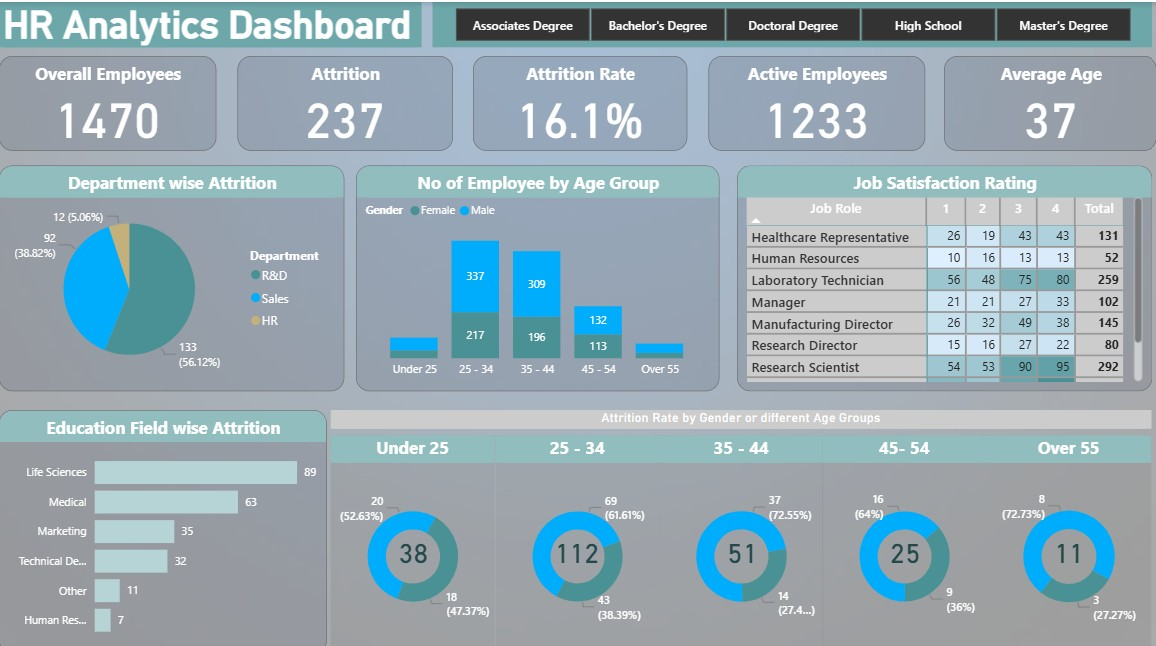

What the dashboard file says about the page in this screenshot:
{"tool":"powerbi","page":{"name":"Page 1","canvas":[1280,720],"ordinal":0},"visuals":[{"type":"card","title":"Overall Employees","fields":{"Values":["Sum(HR Data.Employee Count)"]},"box":[0,60.4,239.7,104.8],"z":0},{"type":"card","title":"Attrition","fields":{"Values":["Sum(HR Data.Attrition_Count)"]},"box":[262.6,60.4,237.7,104.8],"z":1000},{"type":"card","title":"Attrition Rate","fields":{"Values":["HR Data.Attrition_Rate"]},"box":[523.8,60.4,236.4,104.8],"z":2000},{"type":"card","title":"Active Employees","fields":{"Values":["HR Data.Active_Employees"]},"box":[783.7,60.4,239.1,104.8],"z":3000},{"type":"card","title":"Average Age","fields":{"Values":["Avg(HR Data.Age)"]},"box":[1044.3,60.4,235.7,104.8],"z":4000},{"type":"pieChart","title":"Department wise Attrition","fields":{"Category":["HR Data.Department"],"Y":["Sum(HR Data.Attrition_Count)"]},"box":[0,181.3,381.4,249.2],"z":5000},{"type":"columnChart","title":"No of Employee by Age Group","fields":{"Category":["HR Data.CF_age band"],"Y":["Sum(HR Data.Employee Count)"],"Series":["HR Data.Gender"]},"box":[394.2,181.3,401.6,249.2],"z":6000},{"type":"pivotTable","title":"Job Satisfaction Rating","fields":{"Rows":["HR Data.Job Role"],"Columns":["HR Data.Job Satisfaction"],"Values":["Sum(HR Data.Employee Count)"]},"box":[814.6,181.3,458.7,249.2],"z":7000},{"type":"barChart","title":"Education Field wise Attrition","fields":{"Y":["Sum(HR Data.Attrition_Count)"],"Category":["HR Data.Education Field"]},"box":[0,449.9,362,270],"z":8000},{"type":"donutChart","title":"Under 25","fields":{"Category":["HR Data.Gender"],"Y":["Sum(HR Data.Attrition_Count)"],"Series":["HR Data.CF_age band"]},"box":[366.7,478.2,181.3,241.8],"z":9000},{"type":"textbox","title":"Attrition Rate by Gender or different Age Groups","box":[366.7,449.9,906.6,20.8],"z":10000},{"type":"donutChart","title":"25 - 34","fields":{"Category":["HR Data.Gender"],"Y":["Sum(HR Data.Attrition_Count)"],"Series":["HR Data.CF_age band"]},"box":[548,478.2,180.7,241.8],"z":11000},{"type":"donutChart","title":"35 - 44","fields":{"Category":["HR Data.Gender"],"Y":["Sum(HR Data.Attrition_Count)"],"Series":["HR Data.CF_age band"]},"box":[728.6,478.2,181.3,241.8],"z":12000},{"type":"donutChart","title":"45- 54","fields":{"Category":["HR Data.Gender"],"Y":["Sum(HR Data.Attrition_Count)"],"Series":["HR Data.CF_age band"]},"box":[910,478.2,180.7,241.8],"z":13000},{"type":"donutChart","title":"Over 55","fields":{"Category":["HR Data.Gender"],"Y":["Sum(HR Data.Attrition_Count)"],"Series":["HR Data.CF_age band"]},"box":[1090.6,478.2,182.7,241.8],"z":14000},{"type":"card","fields":{"Values":["Sum(HR Data.Attrition_Count)"]},"box":[425.8,578.9,63.1,57.8],"z":15000},{"type":"card","fields":{"Values":["Sum(HR Data.Attrition_Count)"]},"box":[603.7,578.9,69.8,57.8],"z":16000},{"type":"card","fields":{"Values":["Sum(HR Data.Attrition_Count)"]},"box":[788.4,578.9,63.1,57.8],"z":17000},{"type":"card","fields":{"Values":["Sum(HR Data.Attrition_Count)"]},"box":[969.1,578.9,63.1,57.8],"z":18000},{"type":"card","fields":{"Values":["Sum(HR Data.Attrition_Count)"]},"box":[1150.4,578.9,63.1,57.8],"z":19000},{"type":"textbox","title":"HR Analytics Dashboard","box":[0,0,466.7,49.7],"z":20000},{"type":"slicer","fields":{"Values":["HR Data.Education"]},"box":[478.8,0,794.5,49.7],"z":21000}]}

Visuals, with their boxes in screenshot pixels (x1, y1, x2, y2), scaled from the page's 1280x720 canvas onto the 1156x646 screenshot:
"Overall Employees" card: x1=0, y1=54, x2=216, y2=148
"Attrition" card: x1=237, y1=54, x2=452, y2=148
"Attrition Rate" card: x1=473, y1=54, x2=687, y2=148
"Active Employees" card: x1=708, y1=54, x2=924, y2=148
"Average Age" card: x1=943, y1=54, x2=1155, y2=148
"Department wise Attrition" pieChart: x1=0, y1=163, x2=344, y2=386
"No of Employee by Age Group" columnChart: x1=356, y1=163, x2=719, y2=386
"Job Satisfaction Rating" pivotTable: x1=736, y1=163, x2=1150, y2=386
"Education Field wise Attrition" barChart: x1=0, y1=404, x2=327, y2=645
"Under 25" donutChart: x1=331, y1=429, x2=495, y2=645
"Attrition Rate by Gender or different Age Groups" textbox: x1=331, y1=404, x2=1150, y2=422
"25 - 34" donutChart: x1=495, y1=429, x2=658, y2=645
"35 - 44" donutChart: x1=658, y1=429, x2=822, y2=645
"45- 54" donutChart: x1=822, y1=429, x2=985, y2=645
"Over 55" donutChart: x1=985, y1=429, x2=1150, y2=645
card - Sum(HR Data.Attrition_Count): x1=385, y1=519, x2=442, y2=571
card - Sum(HR Data.Attrition_Count): x1=545, y1=519, x2=608, y2=571
card - Sum(HR Data.Attrition_Count): x1=712, y1=519, x2=769, y2=571
card - Sum(HR Data.Attrition_Count): x1=875, y1=519, x2=932, y2=571
card - Sum(HR Data.Attrition_Count): x1=1039, y1=519, x2=1096, y2=571
"HR Analytics Dashboard" textbox: x1=0, y1=0, x2=421, y2=45
slicer - HR Data.Education: x1=432, y1=0, x2=1150, y2=45
